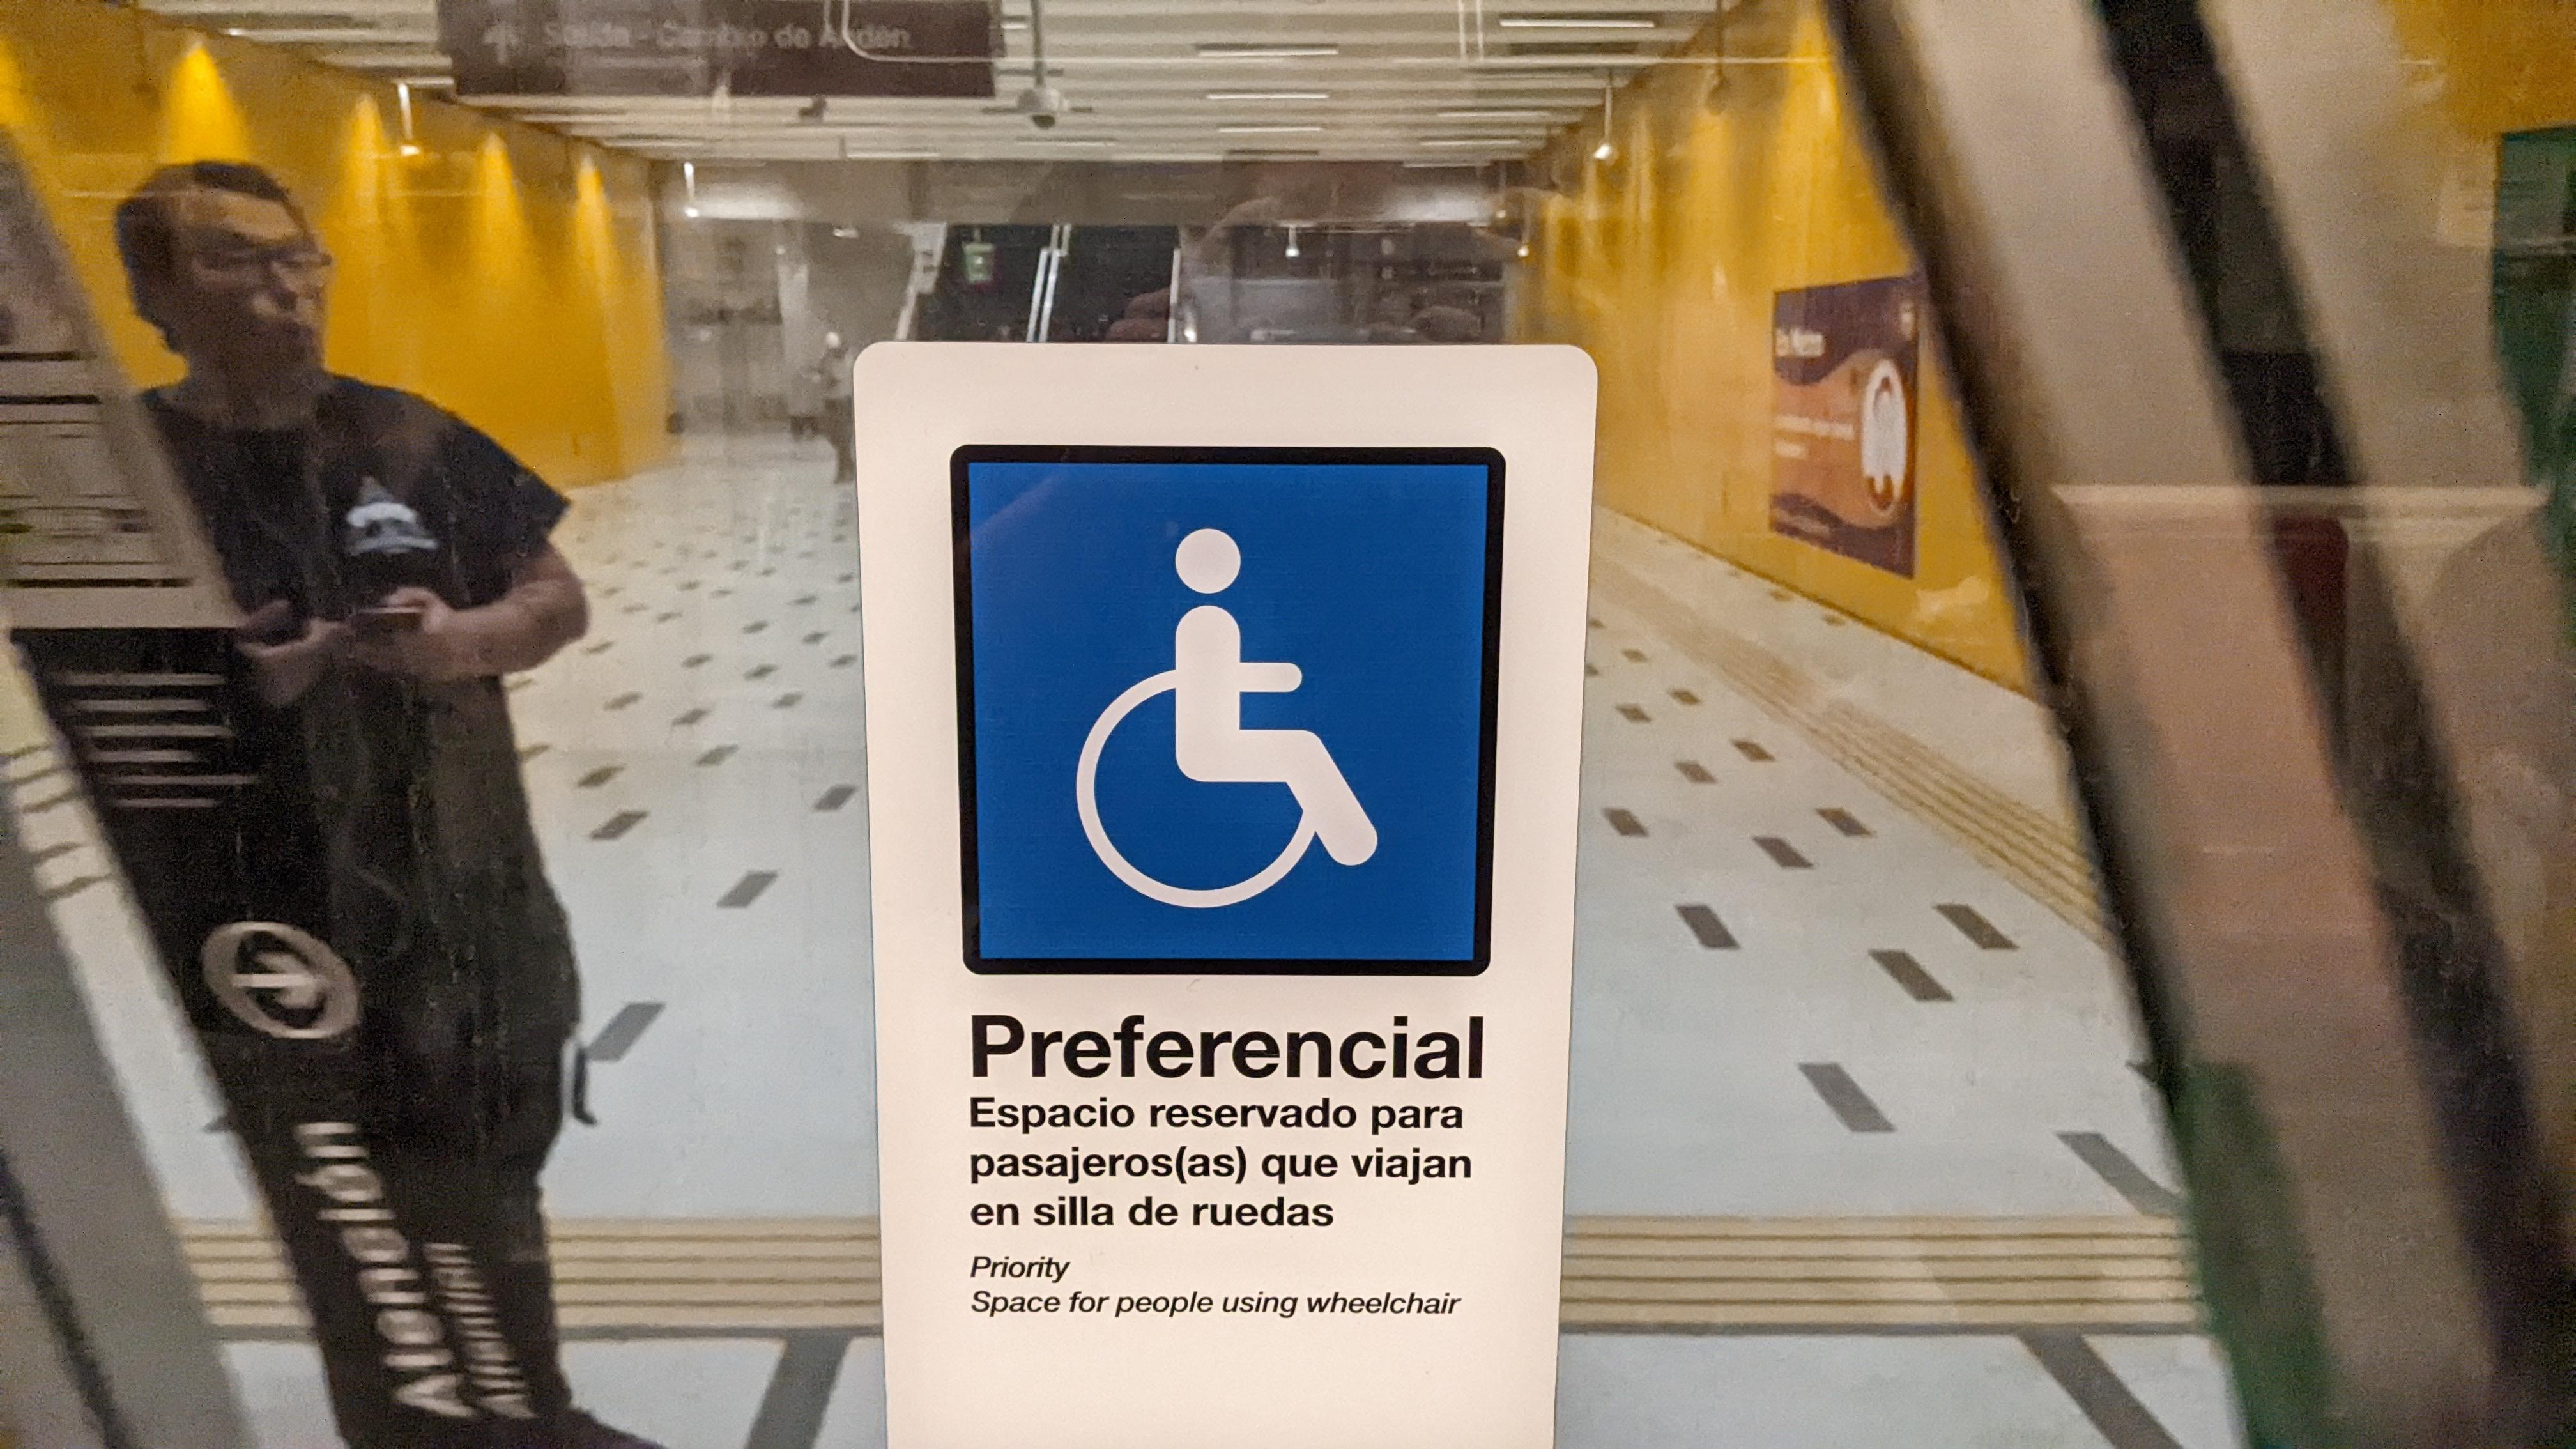handicapped symbol: (1062, 522, 1387, 911)
